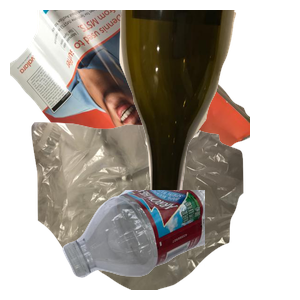glass: (117, 10, 300, 190)
paper: (10, 10, 250, 190)
plastic: (60, 190, 300, 280)
trash: (29, 120, 265, 300)
